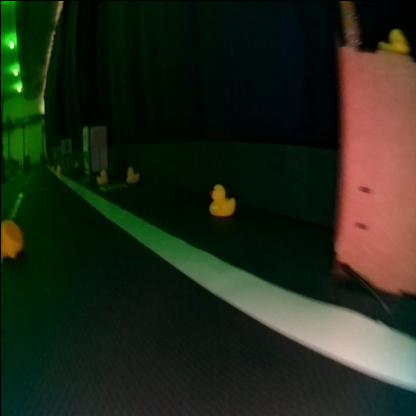Duckie: (207, 182, 233, 215), (0, 218, 21, 258), (379, 27, 407, 51), (125, 165, 138, 181), (95, 168, 107, 182)
